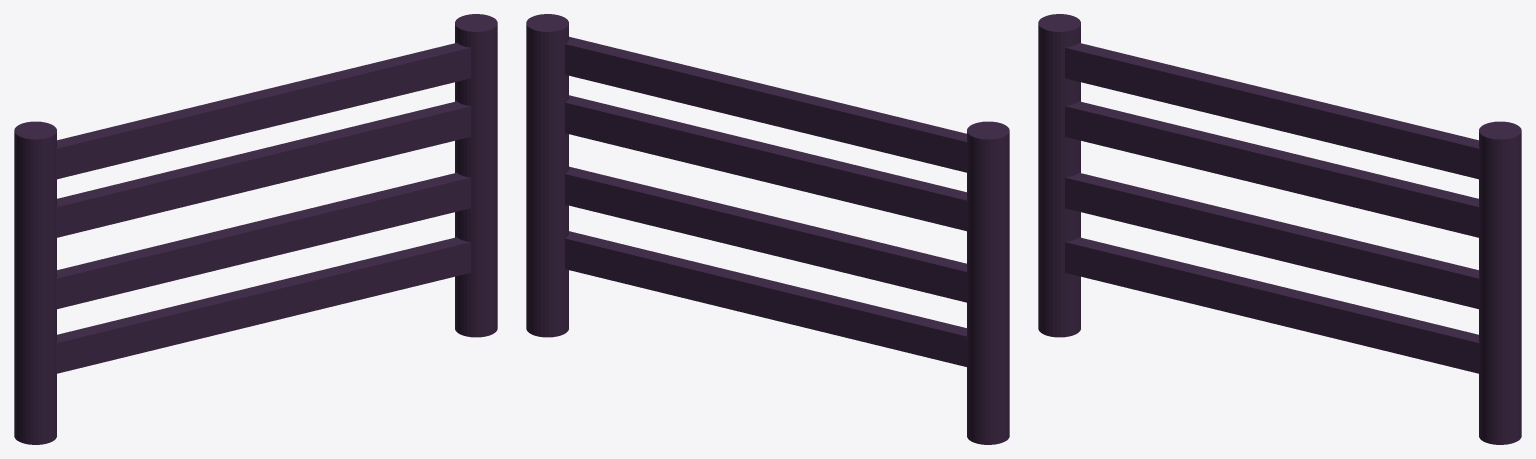
File: Extra_sturdy_horsie_fence.glb
3 views of the same model, side by side, from view 1: azimuth 30°, elevation 25°; view 2: azimuth 150°, elevation 25°; view 3: azimuth 330°, elevation 25° (orthographic).
Visible parts, largest first — view 1: Cylinder; view 2: Cylinder; view 3: Cylinder.
Boxes of the visible parts, box(x1,y1,x2,y2) form: Cylinder: box(14, 14, 497, 444); Cylinder: box(526, 14, 1009, 444); Cylinder: box(1038, 14, 1521, 444).
Bounding box in the file's own units: 5.49 × 3.36 × 0.4256.
